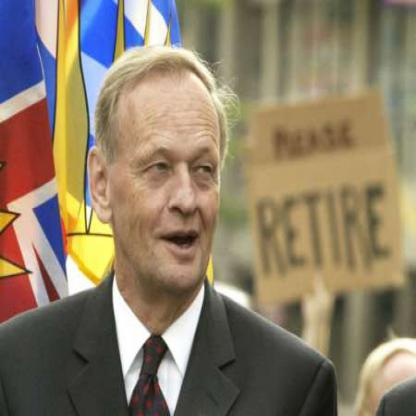face: (110, 54, 231, 301)
